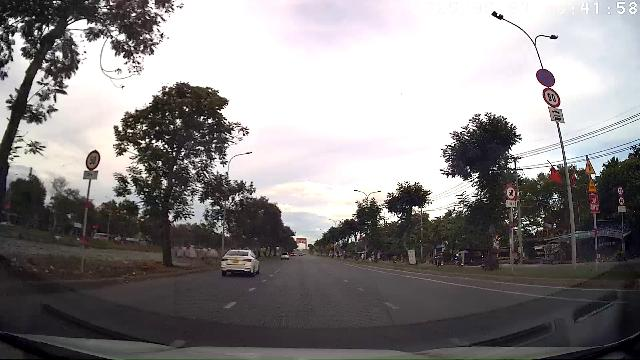127-toc-do-toi-da-50: (86, 150, 100, 170), (505, 185, 517, 200), (617, 187, 624, 195)
127-toc-do-toi-da-80: (542, 88, 562, 107)
130-cam-dung-va-do-xe: (536, 69, 556, 87)
